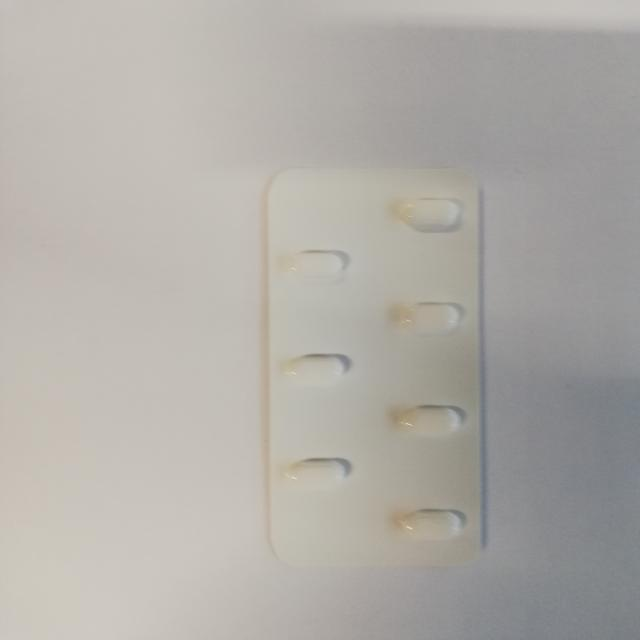Pill: (378, 185, 478, 240), (378, 397, 472, 446), (267, 347, 359, 393), (274, 447, 363, 492), (385, 504, 478, 547), (276, 247, 365, 286), (396, 302, 474, 341)
